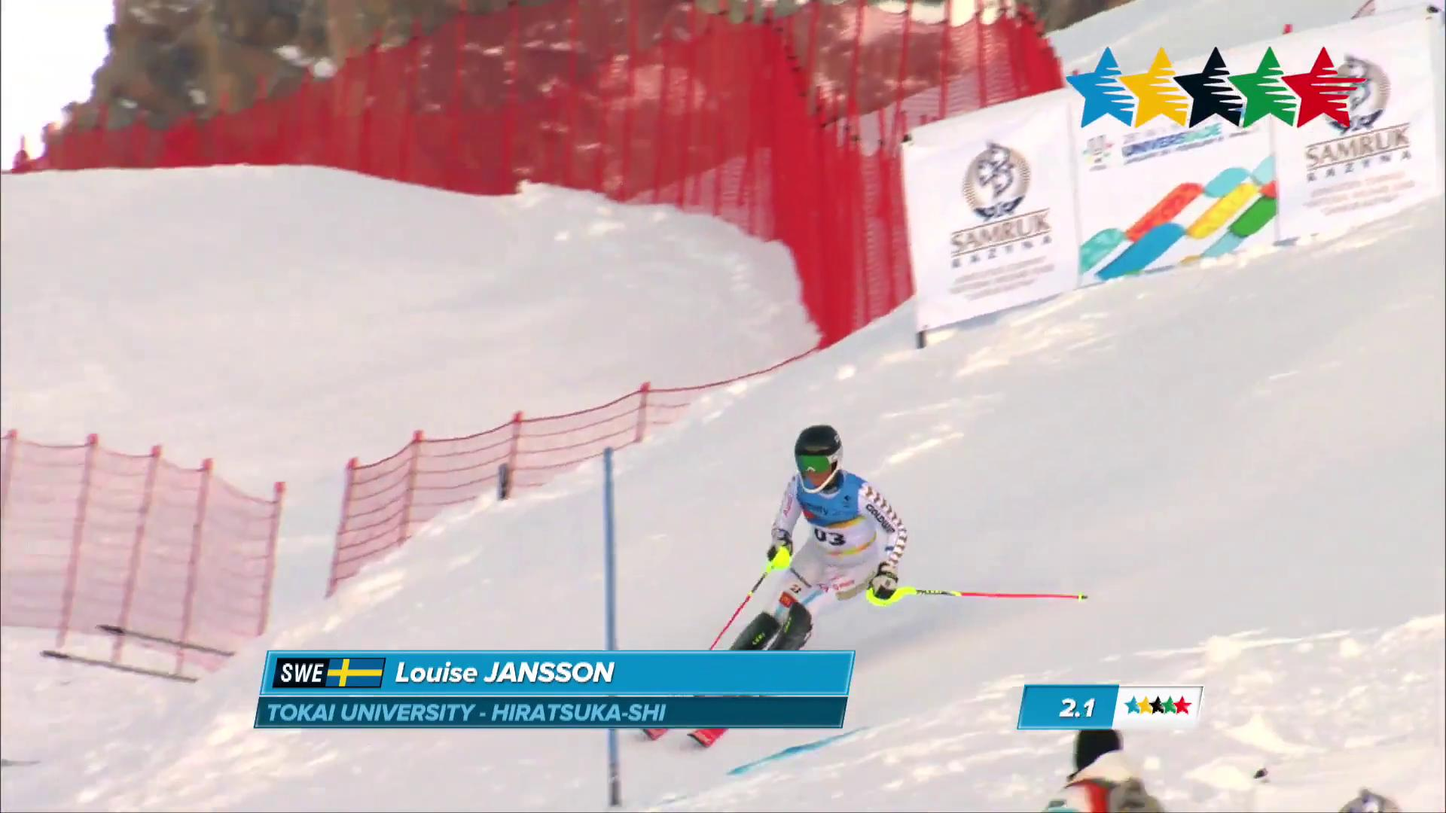gate: (603, 447, 618, 650), (609, 729, 621, 807)
